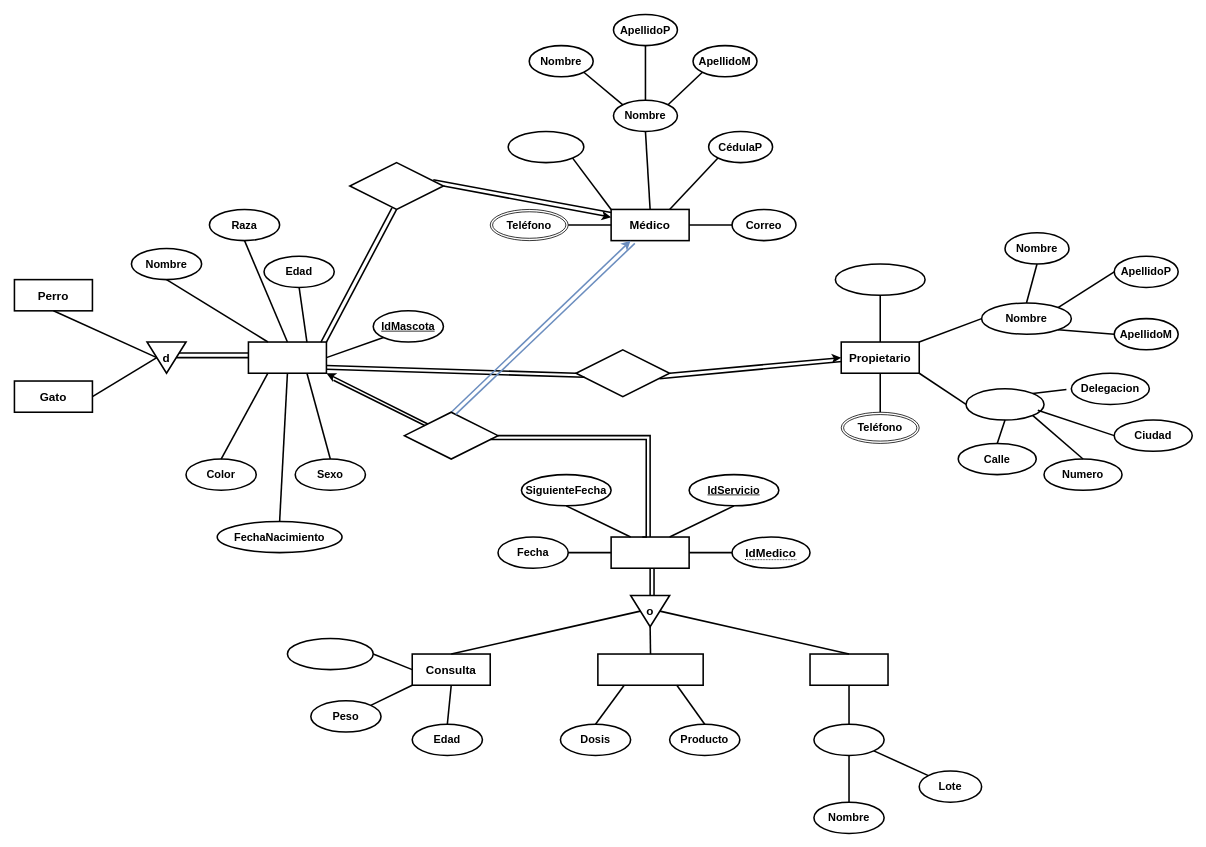
The diagram is 1206 pixels wide and 847 high, and some of its shapes have lost their labels. Here are the shapes that lost their labels. From the top down, the centre of each, then its label:
the point at 545,146: IdMédico
the point at 396,185: Atiende
the point at 879,279: IdPropietario
the point at 287,357: Mascota
the point at 622,373: Tener
the point at 1004,404: Direccion
the point at 450,435: Realizar
the point at 650,552: Servicios
the point at 330,653: Procedimiento
the point at 650,669: Desparacitación
the point at 848,669: Vacunación
the point at 849,739: Vacuna
